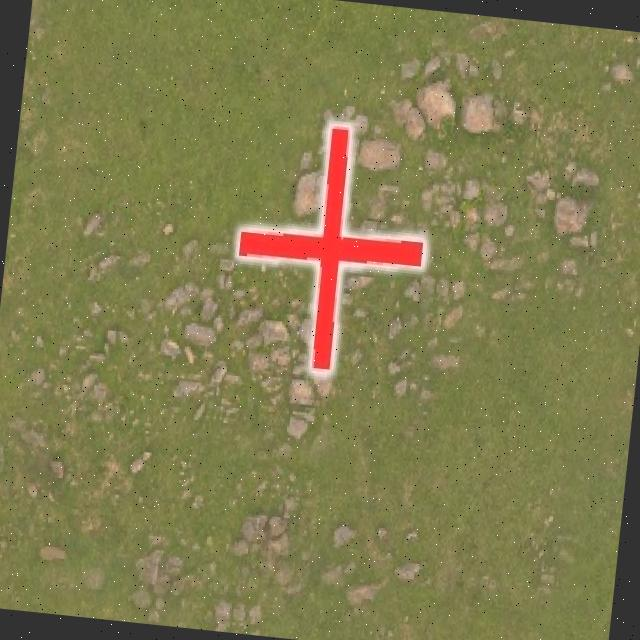x_marker: (226, 115, 435, 378)
